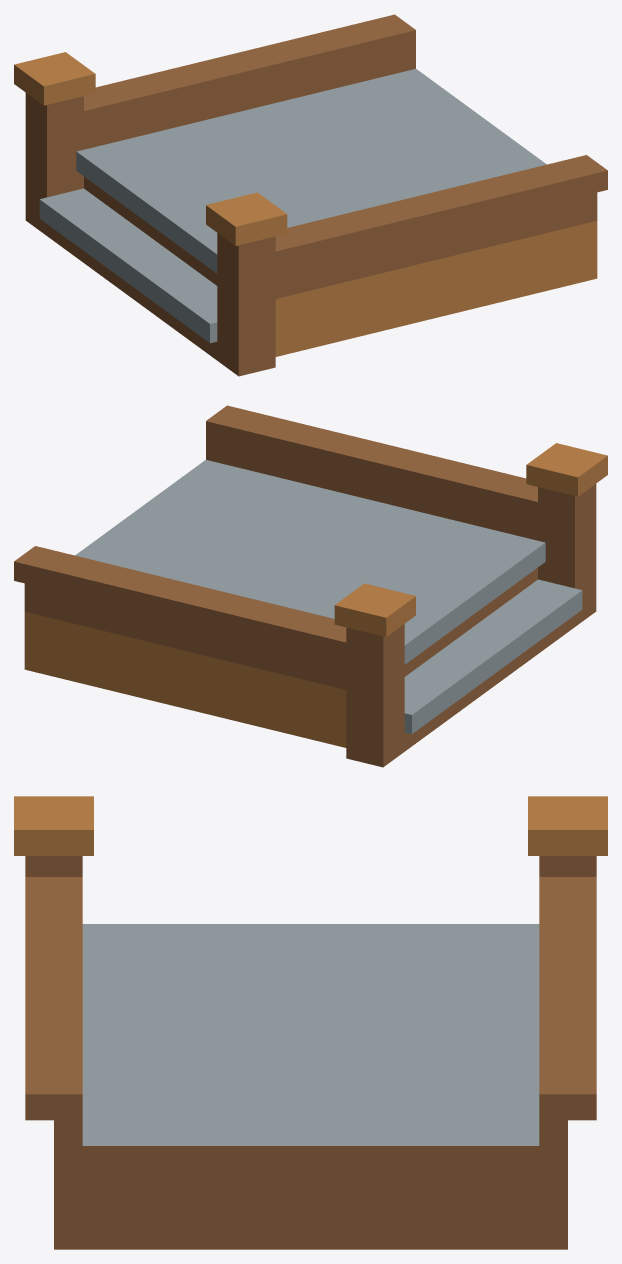
The model's file is bridge_side_wood.glb.
The picture shows the model from 3 angles, top to bottom: view 1: azimuth 30°, elevation 25°; view 2: azimuth 150°, elevation 25°; view 3: azimuth 270°, elevation 25°; orthographic projection. The views are drawn at different scales.
Visible parts, largest first — view 1: bridge_side_wood; view 2: bridge_side_wood; view 3: bridge_side_wood.
Boxes of the visible parts, bbox=[...] form: bridge_side_wood: bbox=[14, 14, 607, 376]; bridge_side_wood: bbox=[14, 405, 607, 767]; bridge_side_wood: bbox=[14, 796, 607, 1249].
Size of the model in its own units: 1.02 by 0.4 by 1.04.
